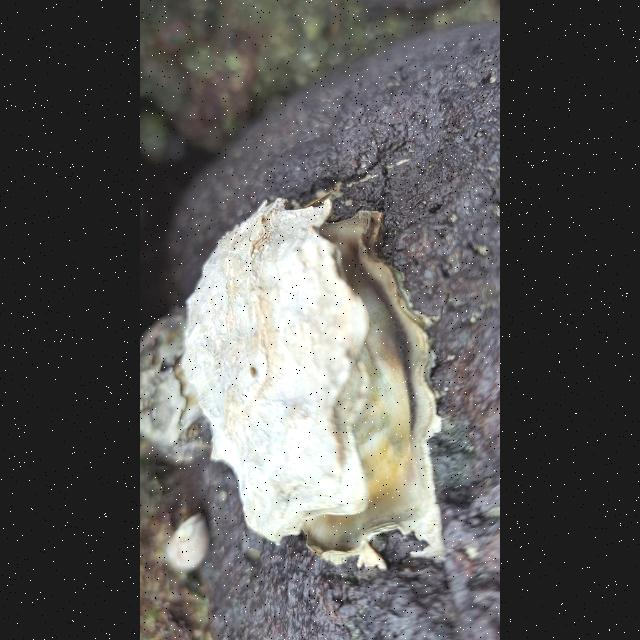Oyster-Open: (179, 197, 445, 563)
